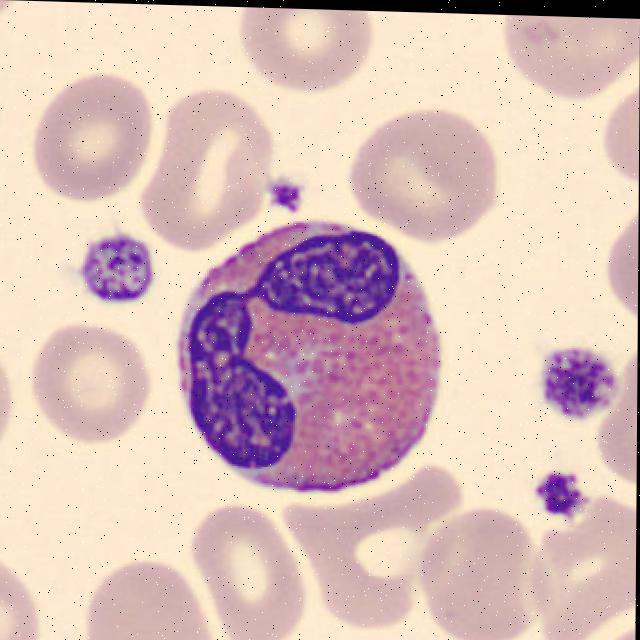eosinophil: (173, 215, 439, 493)
platelets: (78, 226, 153, 301), (543, 342, 617, 417), (526, 458, 592, 529), (267, 170, 310, 218), (0, 88, 5, 141)
rbc: (287, 456, 450, 633), (355, 94, 504, 242), (140, 87, 274, 246), (414, 499, 541, 640), (31, 69, 160, 203), (30, 317, 151, 453), (535, 495, 636, 639), (201, 501, 298, 640), (229, 7, 381, 93), (499, 15, 640, 103), (86, 551, 213, 640), (602, 332, 638, 480), (595, 85, 640, 183), (607, 195, 639, 320), (0, 546, 42, 640), (0, 309, 11, 487), (582, 607, 636, 640)
